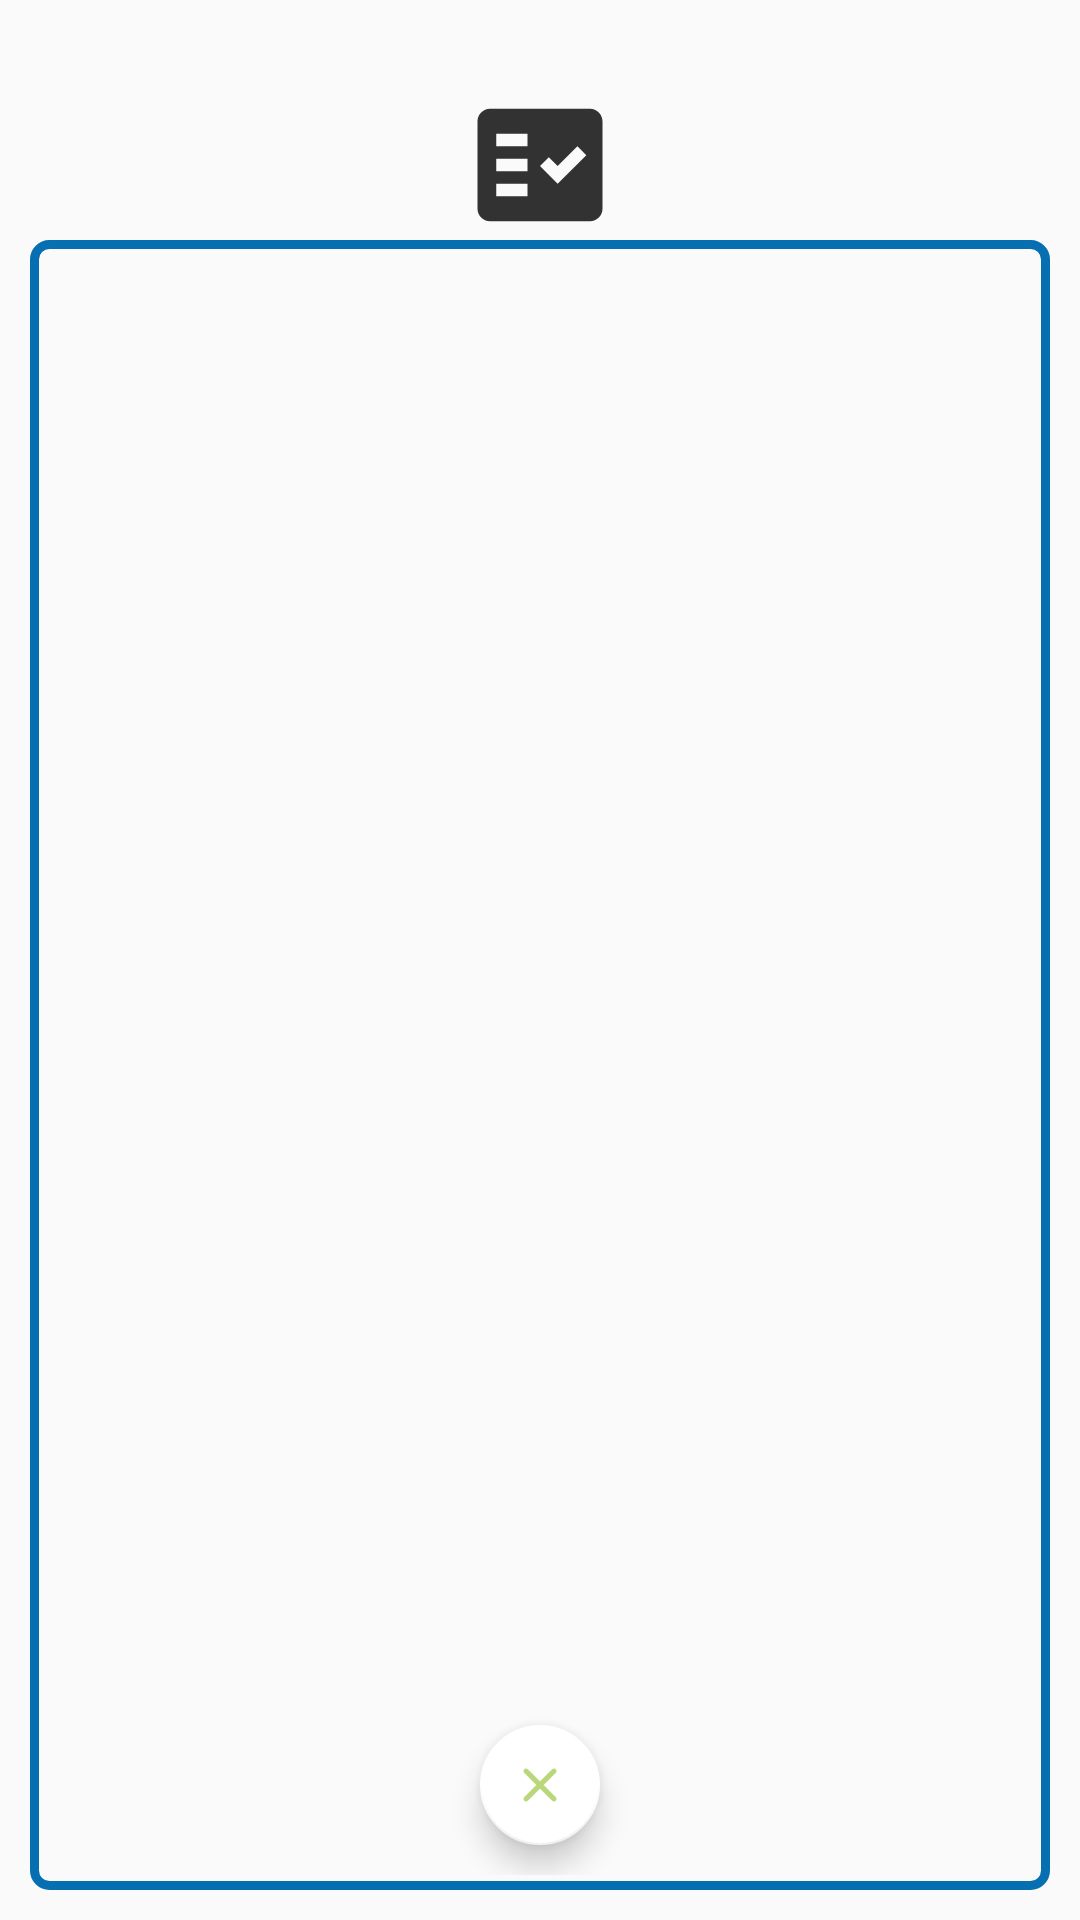

Where icons sit on this 1080 × 1920 app screen, as (x1, y1, x2, y2):
check list: (477, 108, 603, 222)
close: (481, 1768, 600, 1845)
